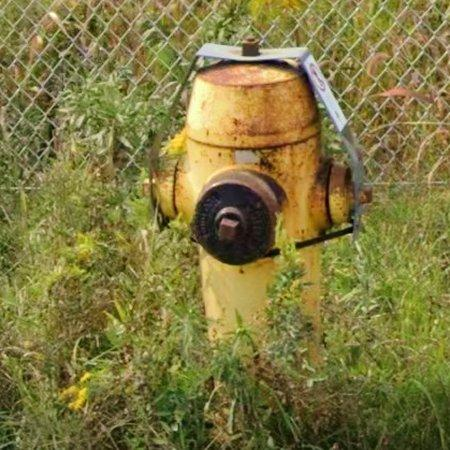a fire hydrant: (151, 40, 371, 345)
